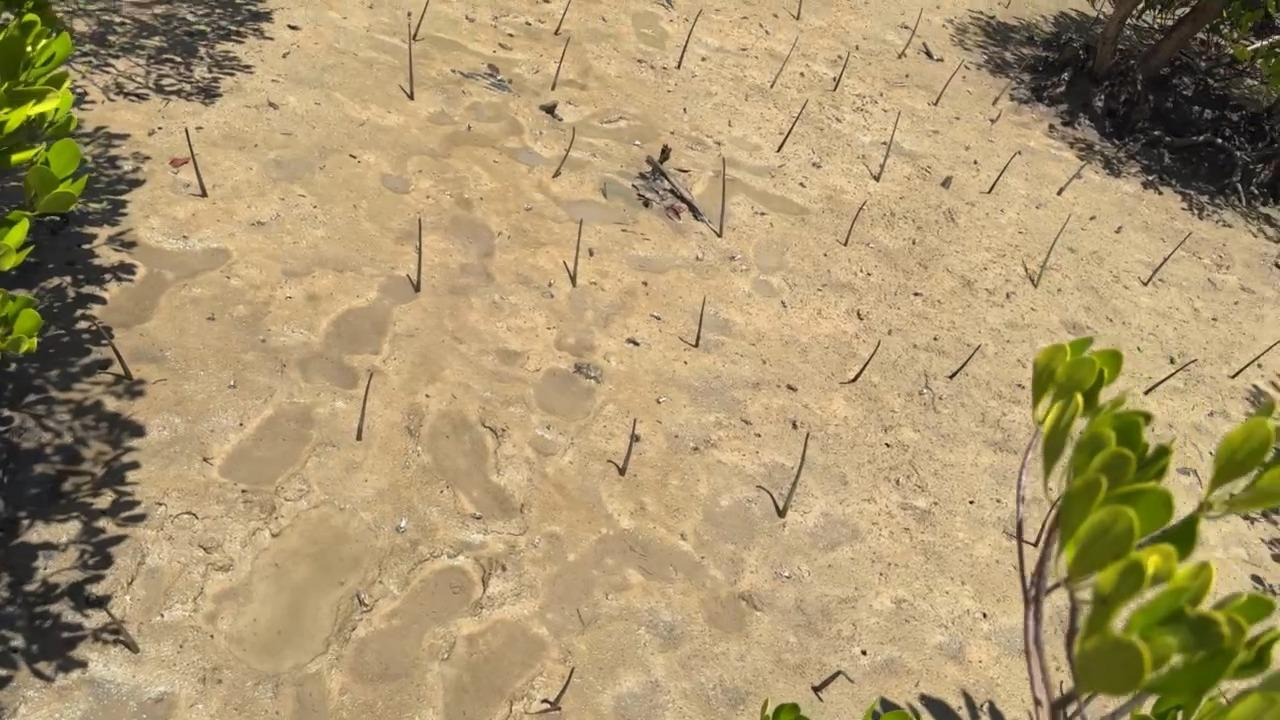Tree: (89, 316, 135, 376), (780, 432, 811, 518), (95, 597, 140, 655), (1036, 214, 1070, 287), (1145, 233, 1192, 285), (1144, 359, 1198, 394), (1231, 341, 1280, 378), (776, 99, 809, 153), (994, 57, 1030, 106), (876, 112, 899, 182), (185, 128, 207, 198), (677, 9, 703, 68), (771, 36, 798, 89), (1036, 495, 1064, 546), (935, 59, 964, 105), (356, 373, 374, 441), (552, 127, 576, 178), (898, 7, 922, 57), (1057, 161, 1091, 195), (812, 668, 856, 694), (989, 153, 1017, 193), (853, 340, 880, 381), (550, 36, 570, 91), (845, 200, 868, 247), (950, 344, 981, 377), (550, 669, 574, 710), (620, 418, 635, 476), (695, 294, 707, 348), (413, 0, 430, 38), (573, 219, 582, 286), (554, 0, 571, 35), (834, 52, 849, 90), (720, 156, 727, 237), (408, 22, 415, 100), (415, 217, 421, 293), (797, 0, 802, 19), (1006, 0, 1011, 6)
